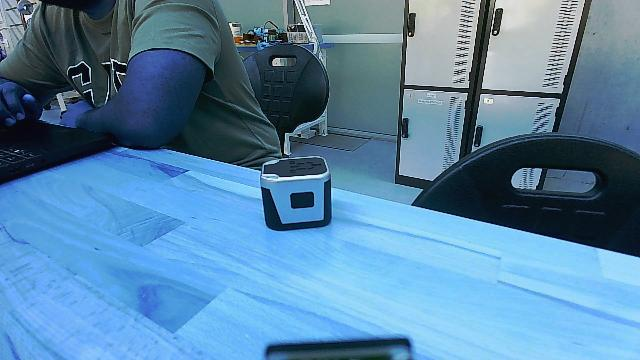adapter: (254, 152, 340, 238)
